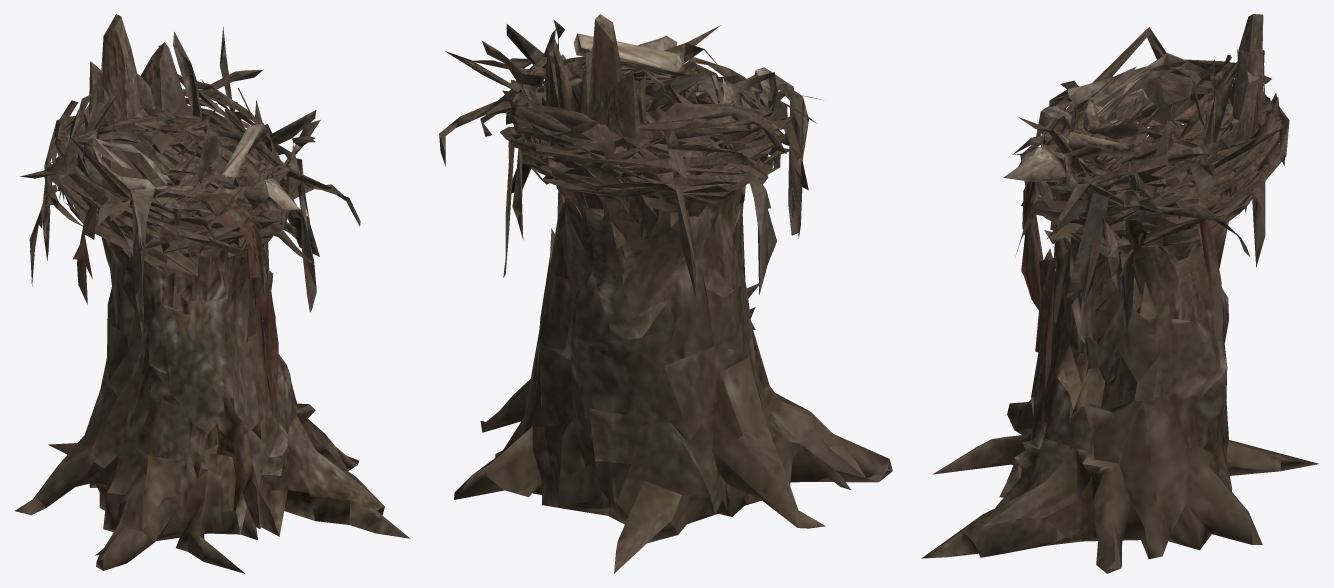
File: mon_crownest.glb
The picture shows the model from 3 angles, left to right: view 1: azimuth 30°, elevation 25°; view 2: azimuth 150°, elevation 25°; view 3: azimuth 270°, elevation 25°; orthographic projection. The views are drawn at different scales.
Visible parts, largest first — view 1: mon_crownest; view 2: mon_crownest; view 3: mon_crownest.
Boxes of the visible parts, x1,y1,x2,y2 form: mon_crownest: (15, 14, 409, 573); mon_crownest: (439, 14, 892, 573); mon_crownest: (921, 14, 1318, 573).
Size of the model in its own units: 1.46 by 1.94 by 1.48.
Materials: 1 (1 with a texture image).
